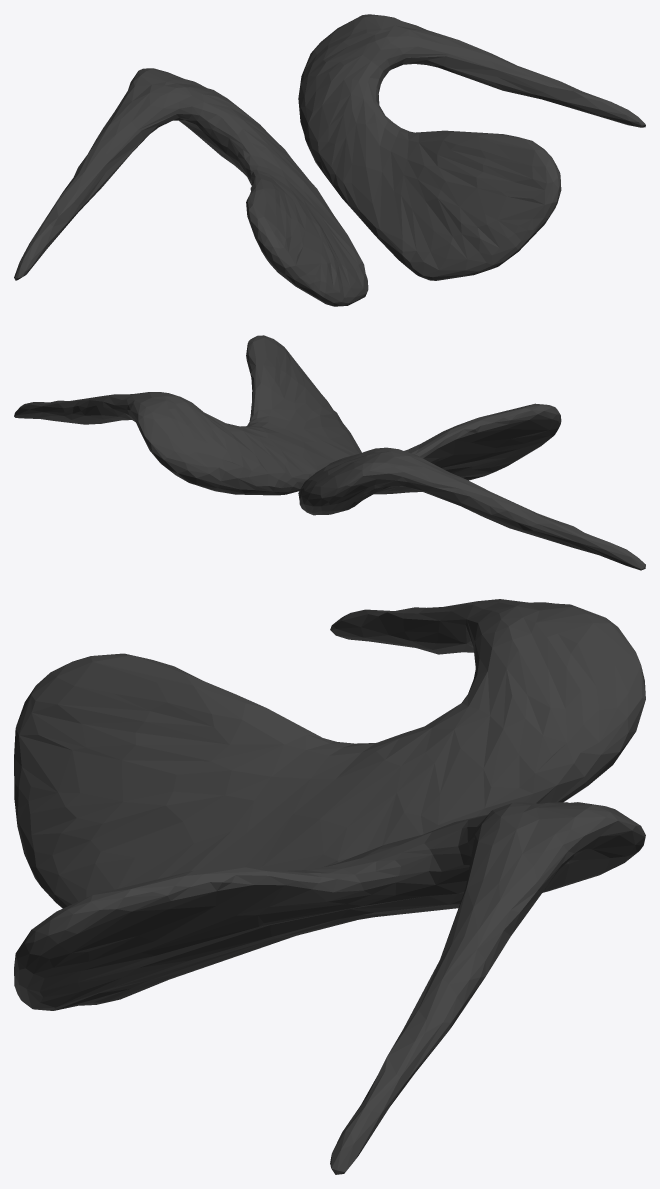
Rendered from m_obturator_internal.glb.
3 views of the same model, one above another, from view 1: azimuth 30°, elevation 25°; view 2: azimuth 150°, elevation 25°; view 3: azimuth 270°, elevation 25° (orthographic). The views are drawn at different scales.
Parts seen in each view (by area): view 1: m_obturator_internal; view 2: m_obturator_internal; view 3: m_obturator_internal.
Part boxes in pixels (x1=…): m_obturator_internal: x1=14, y1=14, x2=645, y2=306; m_obturator_internal: x1=14, y1=335, x2=645, y2=570; m_obturator_internal: x1=14, y1=599, x2=645, y2=1174.
Bounding box in the file's own units: 0.00624 × 0.00138 × 0.00307.
1 material, 1 textured.
